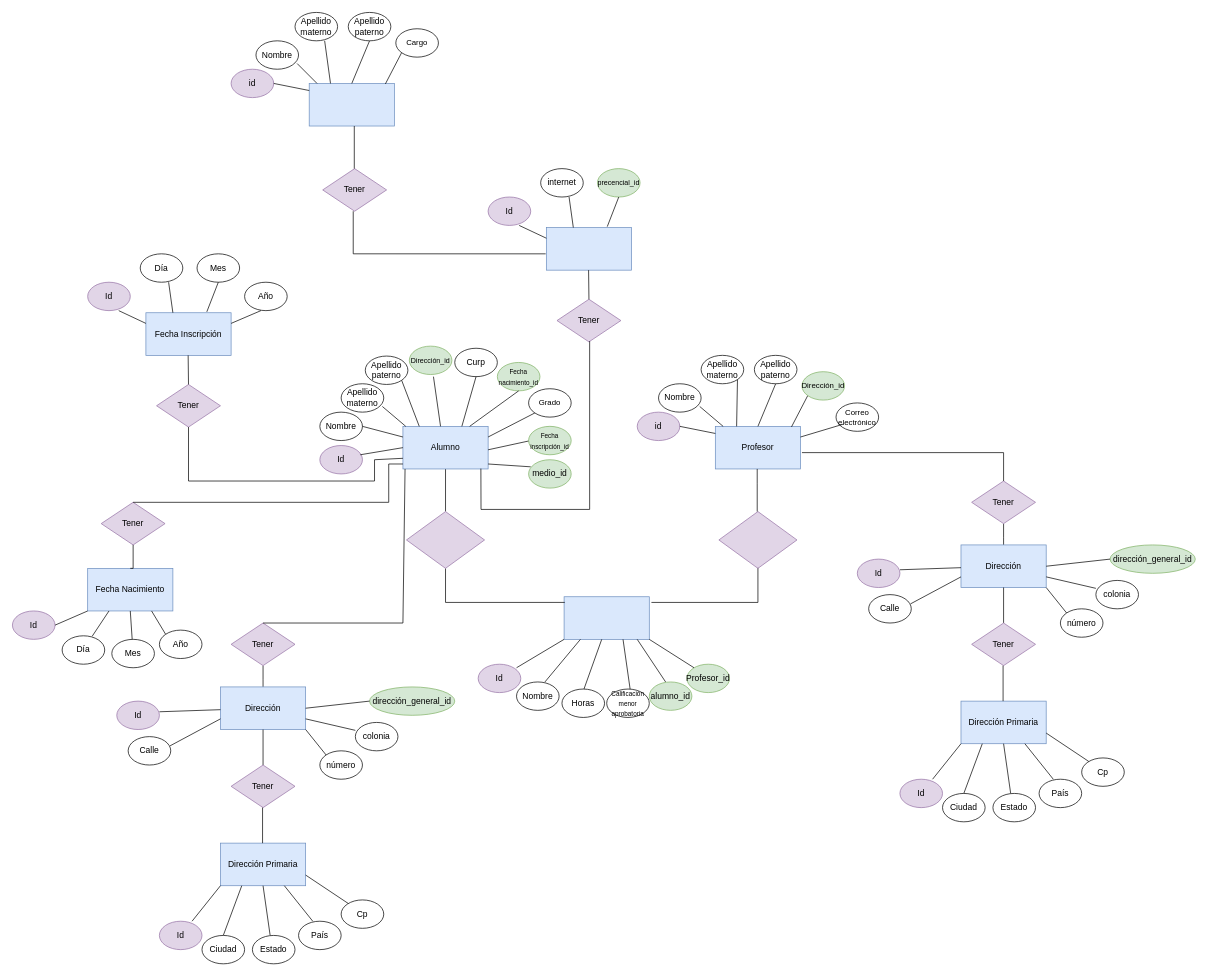
Image size: 1208x976. Some labels were removed from this diagram. Each missing label, with the centre of its shape:
Dará: (757,539)
Materia: (606,617)
Medio: (589,248)
Presencial: (351,104)
Tomará: (445,539)
